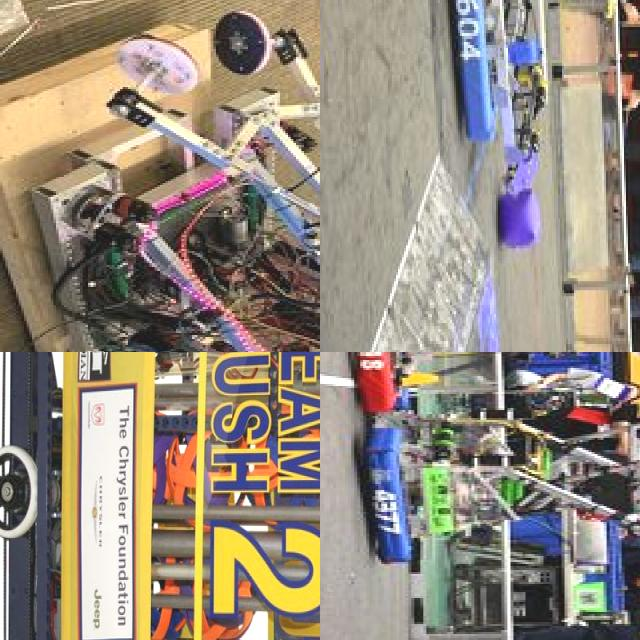FRC-Robots: (13, 31, 320, 352), (0, 352, 320, 640), (320, 409, 640, 615), (364, 0, 640, 214), (320, 352, 640, 402)
